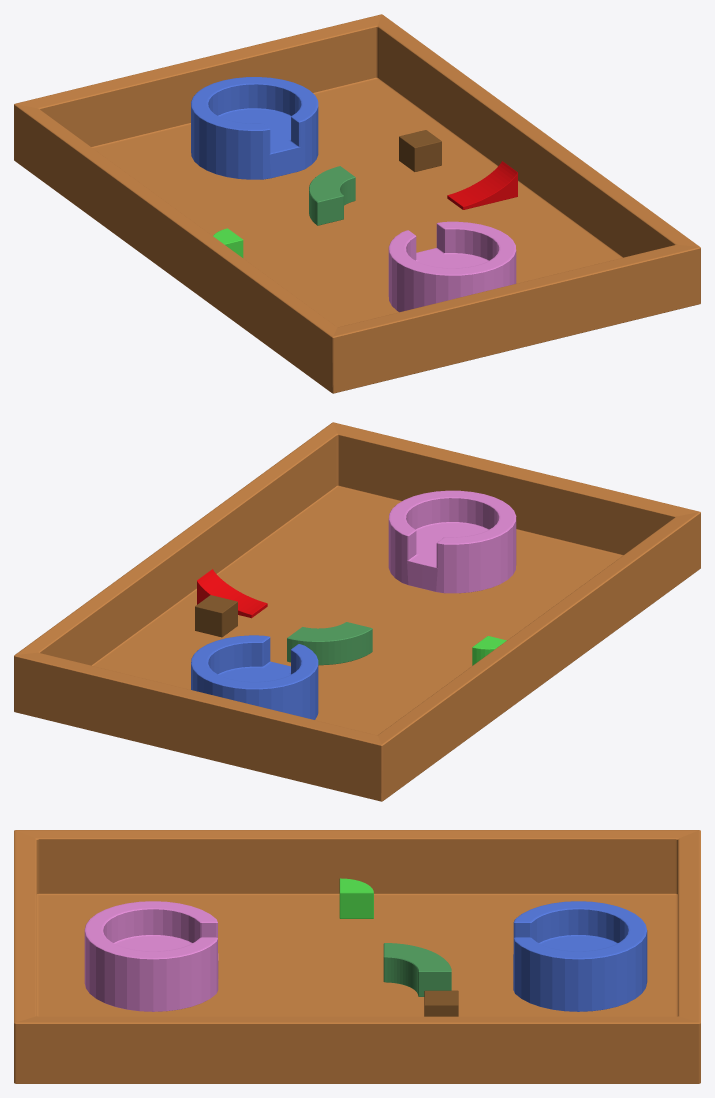
File: board.fbx
The picture shows the model from 3 angles, top to bottom: view 1: azimuth 30°, elevation 25°; view 2: azimuth 150°, elevation 25°; view 3: azimuth 270°, elevation 25°; orthographic projection. The views are drawn at different scales.
Parts seen in each view (by area): view 1: Board, Start, End, Big-Corner, Bridge, Cube; view 2: Board, End, Start, Big-Corner, Cube, Bridge; view 3: Board, Start, End, Big-Corner, Corner, Cube.
Boxes of the visible parts, left/top/right/bottom form: Board: left=14, top=14, right=700, bottom=393; Start: left=191, top=77, right=318, bottom=179; End: left=388, top=221, right=516, bottom=312; Big-Corner: left=309, top=166, right=355, bottom=225; Bridge: left=447, top=161, right=517, bottom=209; Cube: left=399, top=130, right=441, bottom=171; Board: left=14, top=422, right=700, bottom=801; End: left=388, top=490, right=516, bottom=593; Start: left=191, top=635, right=318, bottom=719; Big-Corner: left=287, top=622, right=372, bottom=665; Cube: left=195, top=595, right=237, bottom=637; Bridge: left=197, top=569, right=267, bottom=618; Board: left=14, top=830, right=700, bottom=1083; Start: left=513, top=901, right=647, bottom=1011; End: left=84, top=901, right=218, bottom=1011; Big-Corner: left=383, top=943, right=451, bottom=996; Corner: left=339, top=878, right=373, bottom=918; Cube: left=424, top=990, right=458, bottom=1016.
Bounding box in the file's own units: 200 × 29.43 × 300.
